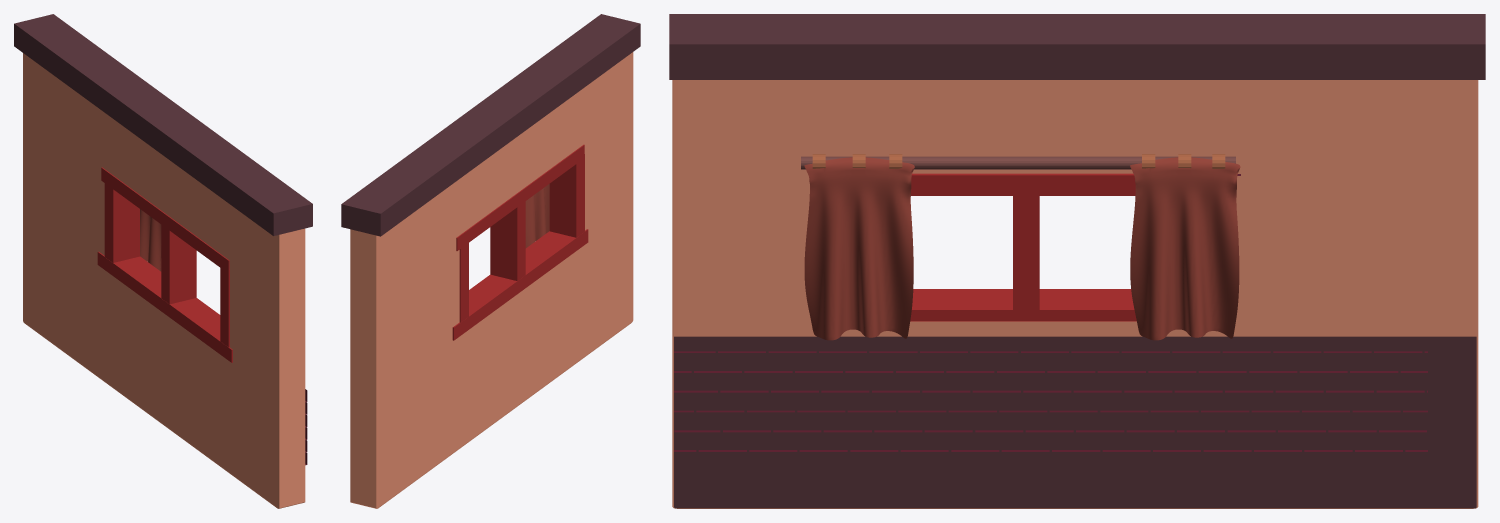
The model's file is parede-esquerda.fbx.
3 views of the same model, side by side, from view 1: azimuth 30°, elevation 25°; view 2: azimuth 150°, elevation 25°; view 3: azimuth 270°, elevation 25° (orthographic). The views are drawn at different scales.
Parts seen in each view (by area): view 1: Cube.105; view 2: Cube.105; view 3: Cube.105.
Boxes of the visible parts, left/top/right/bottom form: Cube.105: left=14, top=14, right=312, bottom=508; Cube.105: left=341, top=14, right=640, bottom=508; Cube.105: left=669, top=14, right=1485, bottom=508.
Bounding box in the file's own units: 69.25 × 413 × 650.
